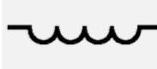inductor: (22, 15, 147, 51)
